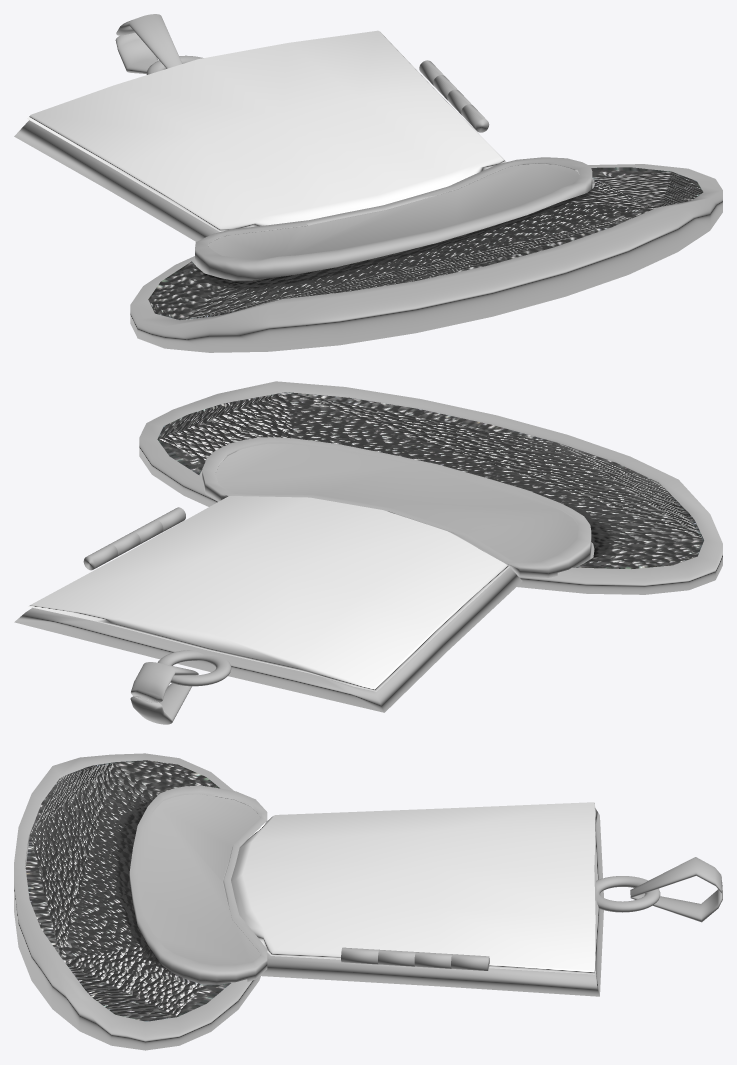
The picture shows the model from 3 angles, top to bottom: view 1: azimuth 30°, elevation 25°; view 2: azimuth 150°, elevation 25°; view 3: azimuth 270°, elevation 25°; orthographic projection.
Visible parts, largest first — view 1: dIJECARELAVERGA; view 2: dIJECARELAVERGA; view 3: dIJECARELAVERGA.
Boxes of the visible parts, x1,y1,x2,y2 form: dIJECARELAVERGA: [14, 14, 722, 352]; dIJECARELAVERGA: [14, 381, 722, 724]; dIJECARELAVERGA: [14, 753, 722, 1050].
Size of the model in its own units: 1.11 by 0.1073 by 1.19.
3 materials, 1 textured.
